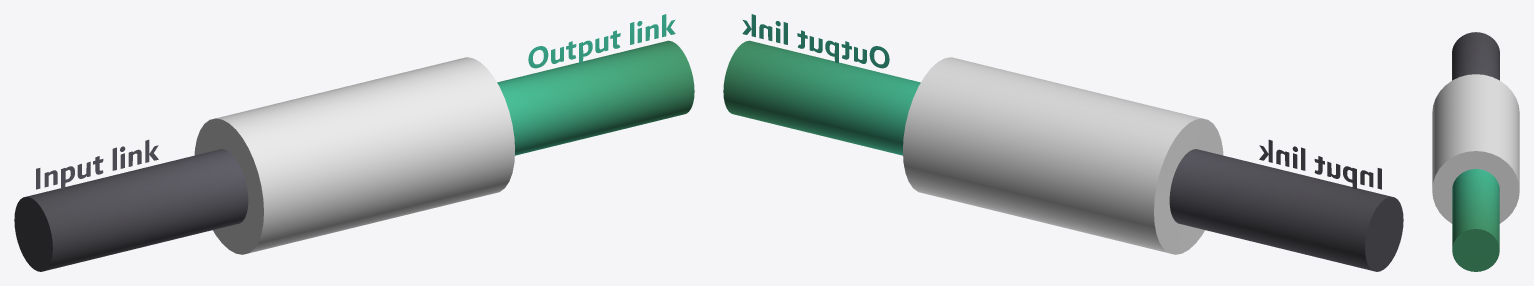
The model's file is LinearJoint.fbx.
3 renders of one model, left to right at view 1: azimuth 30°, elevation 25°; view 2: azimuth 150°, elevation 25°; view 3: azimuth 270°, elevation 25°, orthographic. The views are drawn at different scales.
Parts seen in each view (by area): view 1: LinearJoint_InputLink2, LinearJoint_OutputLink; view 2: LinearJoint_InputLink2, LinearJoint_OutputLink; view 3: LinearJoint_InputLink2, LinearJoint_OutputLink.
Boxes of the visible parts, x1,y1,x2,y2 form: LinearJoint_InputLink2: (14, 57, 514, 271); LinearJoint_OutputLink: (497, 14, 694, 155); LinearJoint_InputLink2: (903, 57, 1403, 271); LinearJoint_OutputLink: (723, 14, 920, 155); LinearJoint_InputLink2: (1432, 32, 1519, 223); LinearJoint_OutputLink: (1452, 169, 1499, 271).
Size of the model in its own units: 186 by 35.9 by 34.96.
